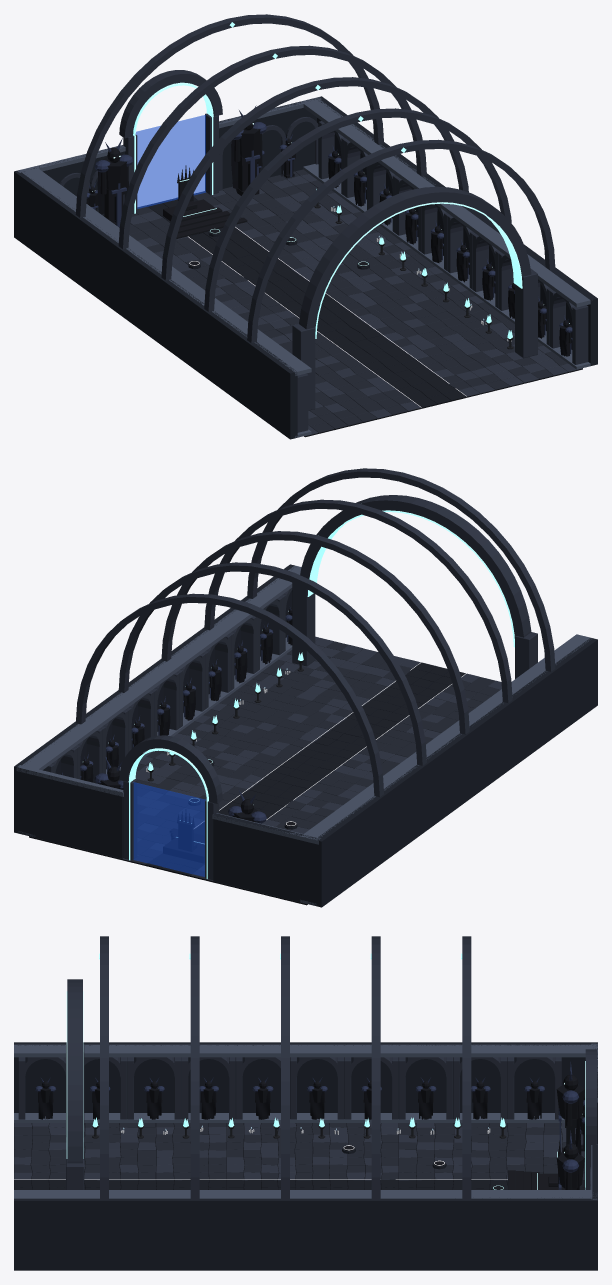
The model's file is SoloLeveling_Combined_Final.fbx.
The picture shows the model from 3 angles, top to bottom: view 1: azimuth 30°, elevation 25°; view 2: azimuth 150°, elevation 25°; view 3: azimuth 270°, elevation 25°; orthographic projection. The views are drawn at different scales.
Visible parts, largest first — view 1: Walls, Ribs, Floor1_FloorStone, AlcoveFrames_Trim, AlcoveFrames_WallStone, EntryGate, Floor2_FloorStone, Floor3_FloorStone, Floor1_FloorStoneLight, Floor1_Runner, GatePortal, Floor3_FloorStoneLight (+15 smaller); view 2: Walls, Ribs, EndWalls_WallStoneDark, AlcoveFrames_Trim, Floor1_FloorStone, AlcoveFrames_WallStone, EntryGate, Floor2_FloorStone, GatePortal, Floor1_FloorStoneLight, Floor2_FloorStoneLight, Floor3_FloorStone (+13 smaller); view 3: Walls, AlcoveFrames_Trim, Ribs, AlcoveFrames_WallStone, Floor1_FloorStone, Floor3_FloorStone, Floor2_FloorStone, EntryGate, Floor1_FloorStoneLight, Floor2_FloorStoneLight, ShadowArmy_ShadowCape, Floor3_FloorStoneLight (+13 smaller).
Boxes of the visible parts, x1,y1,x2,y2 form: Walls: (14,96,597,439); Ribs: (75,14,555,343); Floor1_FloorStone: (279,298,567,433); AlcoveFrames_Trim: (19,97,592,437); AlcoveFrames_WallStone: (297,121,588,432); EntryGate: (292,186,537,410); Floor2_FloorStone: (197,236,475,338); Floor3_FloorStone: (129,169,394,284); Floor1_FloorStoneLight: (305,296,582,436); Floor1_Runner: (322,323,466,408); GatePortal: (135,115,205,208); Floor3_FloorStoneLight: (130,174,386,272); Walls: (14,564,597,907); Ribs: (76,468,555,797); EndWalls_WallStoneDark: (17,767,319,906); AlcoveFrames_Trim: (18,565,591,905); Floor1_FloorStone: (219,641,500,757); AlcoveFrames_WallStone: (43,588,292,783); EntryGate: (292,495,537,678); Floor2_FloorStone: (136,709,399,816); GatePortal: (133,782,205,876); Floor1_FloorStoneLight: (211,636,501,738); Floor2_FloorStoneLight: (139,715,407,813); Floor3_FloorStone: (29,770,326,905); Walls: (14,1042,597,1270); AlcoveFrames_Trim: (14,1044,597,1198); Ribs: (100,936,471,1199); AlcoveFrames_WallStone: (18,1057,561,1119); Floor1_FloorStone: (14,1123,226,1180); Floor3_FloorStone: (399,1123,584,1180); Floor2_FloorStone: (227,1123,398,1180); EntryGate: (66,979,84,1189); Floor1_FloorStoneLight: (14,1123,226,1180); Floor2_FloorStoneLight: (227,1123,398,1180); ShadowArmy_ShadowCape: (38,1091,541,1119); Floor3_FloorStoneLight: (399,1123,584,1180).
Bounding box in the file's own units: 16600 × 11687 × 25800.
